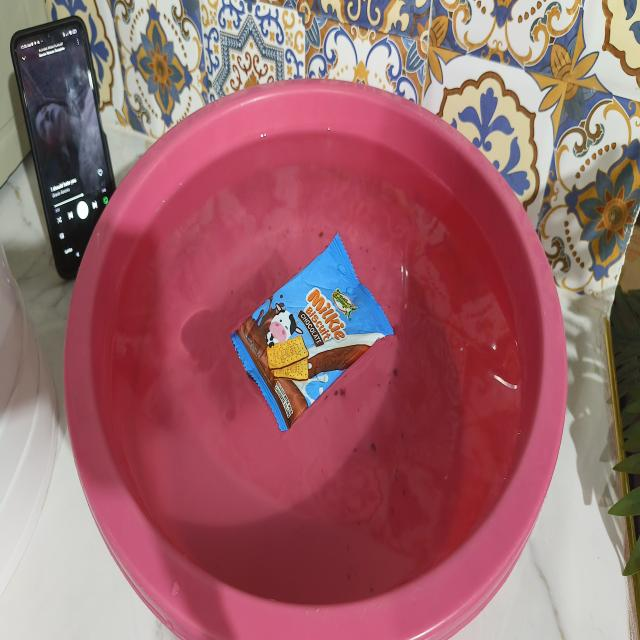Plastic Wrapper: (231, 234, 393, 430)
